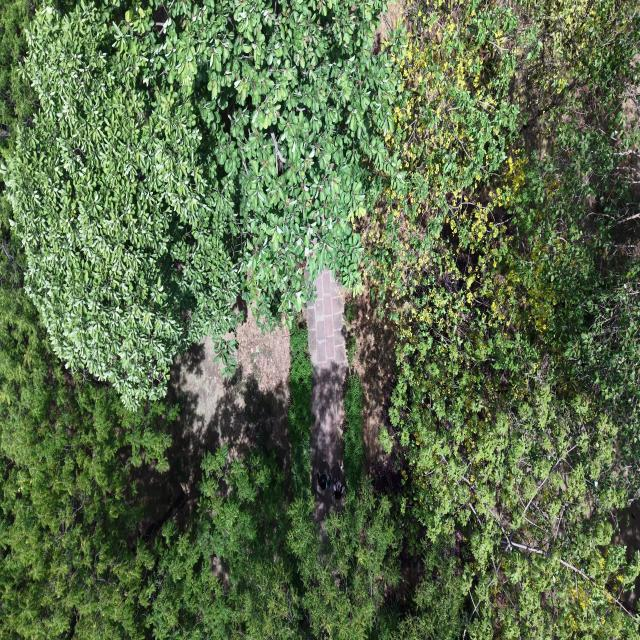DRY_AREA: (133, 308, 290, 535), (133, 309, 290, 535), (133, 310, 290, 535), (307, 270, 400, 522), (172, 310, 290, 495), (172, 308, 290, 458), (172, 308, 289, 458), (171, 308, 289, 456), (348, 290, 408, 493), (348, 288, 403, 492), (350, 287, 399, 487), (350, 289, 396, 473), (307, 270, 346, 368), (372, 0, 405, 53), (613, 501, 639, 561)
PATHWAYS: (307, 270, 346, 521)
VEGETATION_TREE: (0, 0, 639, 639), (0, 3, 399, 637), (364, 0, 639, 638), (0, 288, 457, 638), (5, 0, 397, 407), (146, 323, 462, 639), (7, 6, 240, 406), (0, 183, 176, 638), (0, 286, 176, 638), (147, 448, 399, 638), (288, 374, 401, 639), (146, 447, 300, 638), (289, 480, 401, 639), (378, 522, 466, 639), (0, 0, 40, 162), (0, 0, 33, 158), (0, 0, 33, 151), (289, 322, 312, 497), (343, 373, 364, 488)
